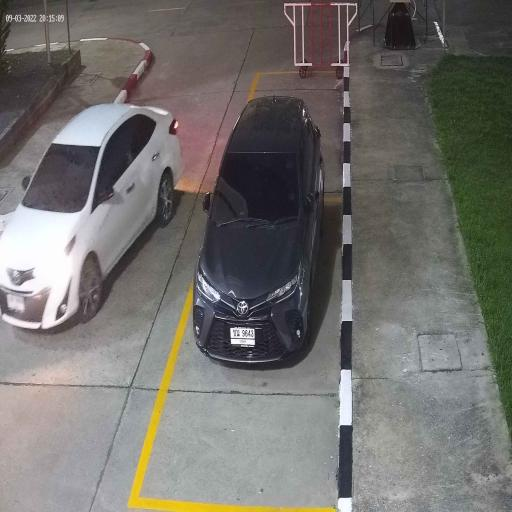car: (0, 102, 181, 331), (192, 94, 324, 366)
